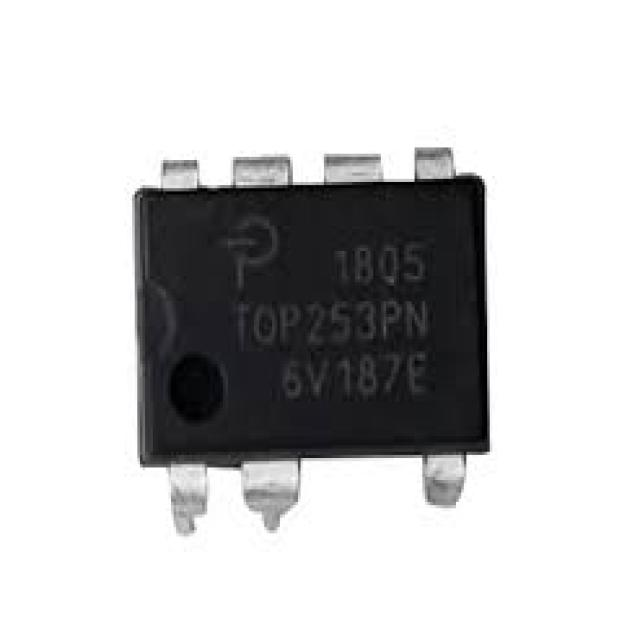IC: (137, 149, 491, 540)
